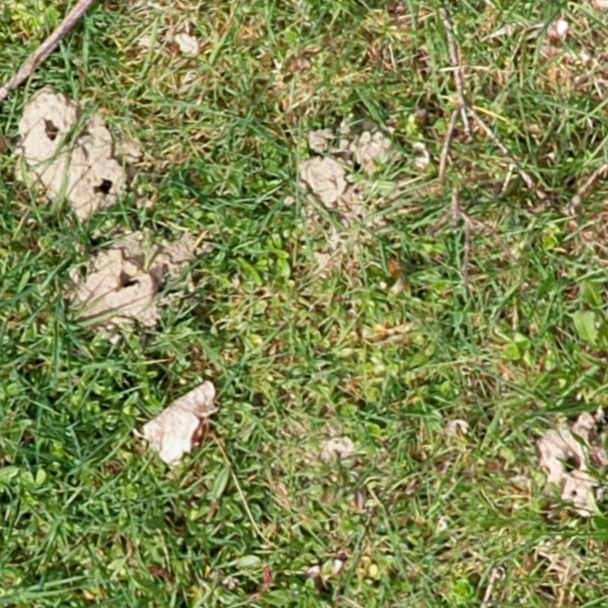nest: (70, 245, 159, 326), (535, 420, 608, 512), (17, 90, 95, 175), (59, 144, 140, 222)
